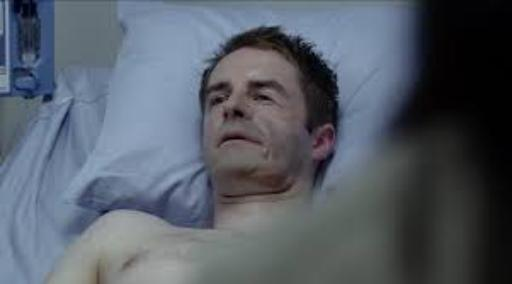left_eye: (253, 92, 277, 103)
left_lip_corner: (251, 136, 263, 146)
right_eye: (208, 95, 228, 106)
right_lip_corner: (215, 138, 229, 148)
